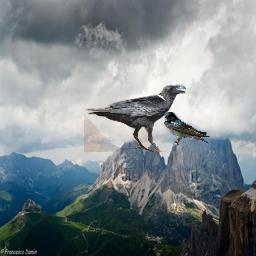Crow: (84, 83, 186, 152)
Swallow: (164, 112, 211, 146)
